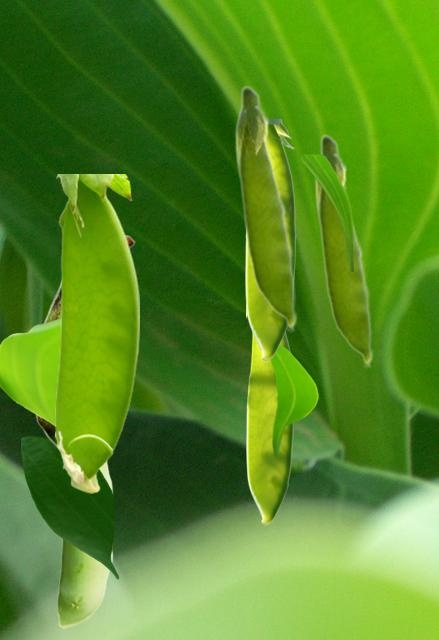pea: (55, 174, 138, 492), (35, 234, 134, 467), (234, 84, 297, 331), (314, 133, 373, 367), (245, 119, 295, 360), (246, 316, 293, 524), (55, 460, 112, 627)
